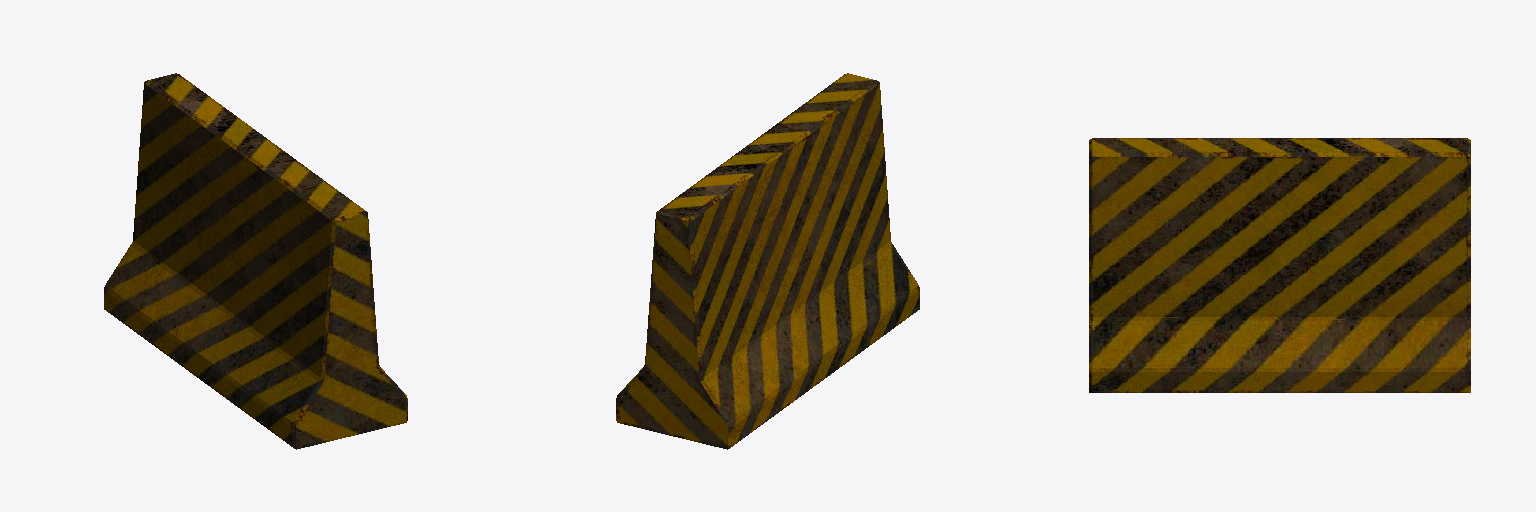
3 renders of one model, left to right at view 1: azimuth 30°, elevation 25°; view 2: azimuth 150°, elevation 25°; view 3: azimuth 270°, elevation 25°, orthographic.
Visible parts, largest first — view 1: Concrete_Barrier_2_Mesh.002; view 2: Concrete_Barrier_2_Mesh.002; view 3: Concrete_Barrier_2_Mesh.002.
Part boxes in pixels (x1,y1,x2,y2): Concrete_Barrier_2_Mesh.002: (104,73,407,449); Concrete_Barrier_2_Mesh.002: (616,73,919,449); Concrete_Barrier_2_Mesh.002: (1089,138,1470,392).
Size of the model in its own units: 0.7958 by 1.45 by 2.28.
Materials: 1 (1 with a texture image).